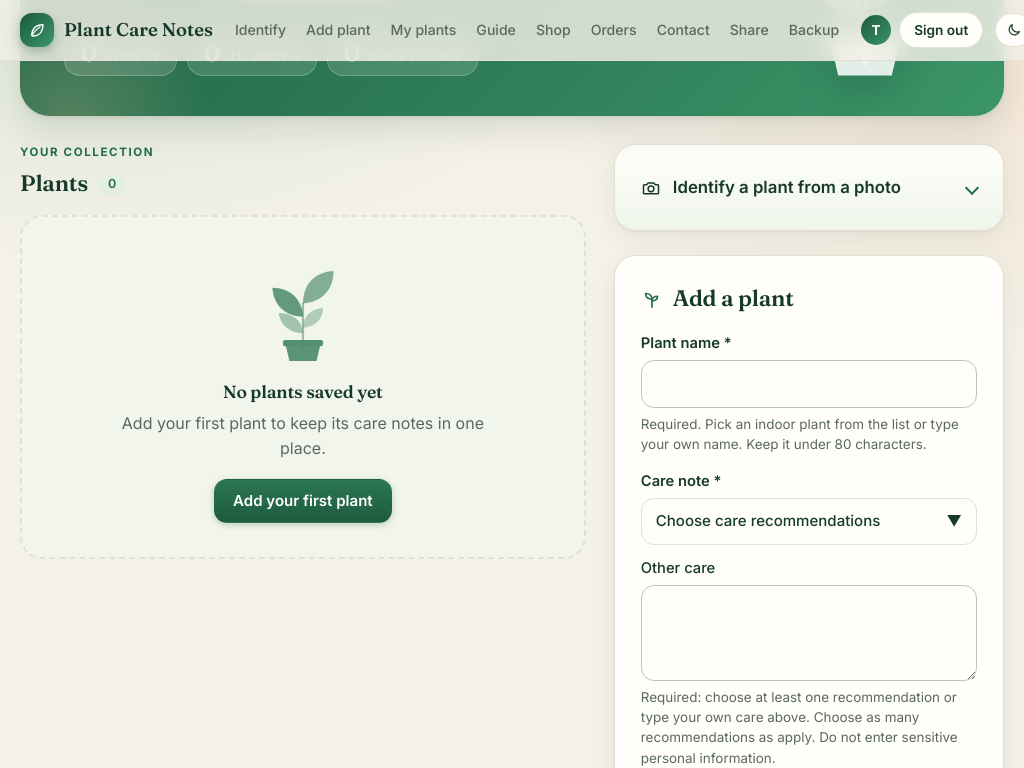
Test: Plant Care Notes › saves a plant and shows name and care note (criterion 1)
(page scrolled)
Type "Fern" into the field labelled "Plant name *".
click(809, 384); type("Fern")  # box [641,360,977,408]
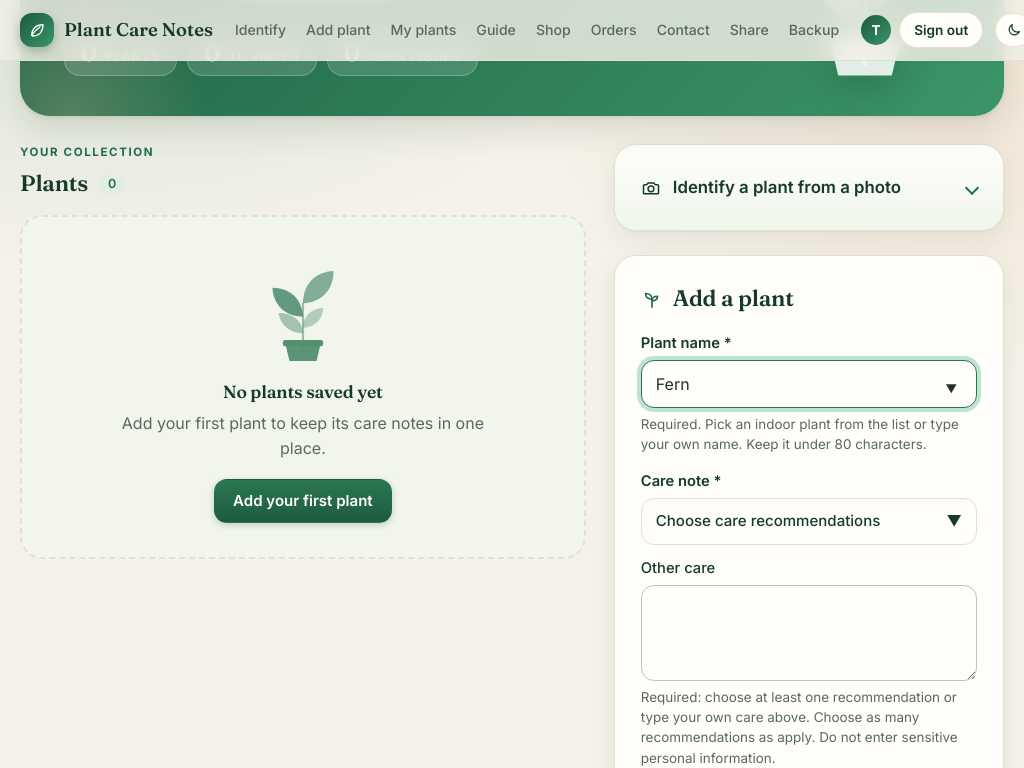
Type "Mist daily" into the text box labelled "Other care".
click(809, 633); type("Mist daily")  # box [641,585,977,681]
(page scrolled)
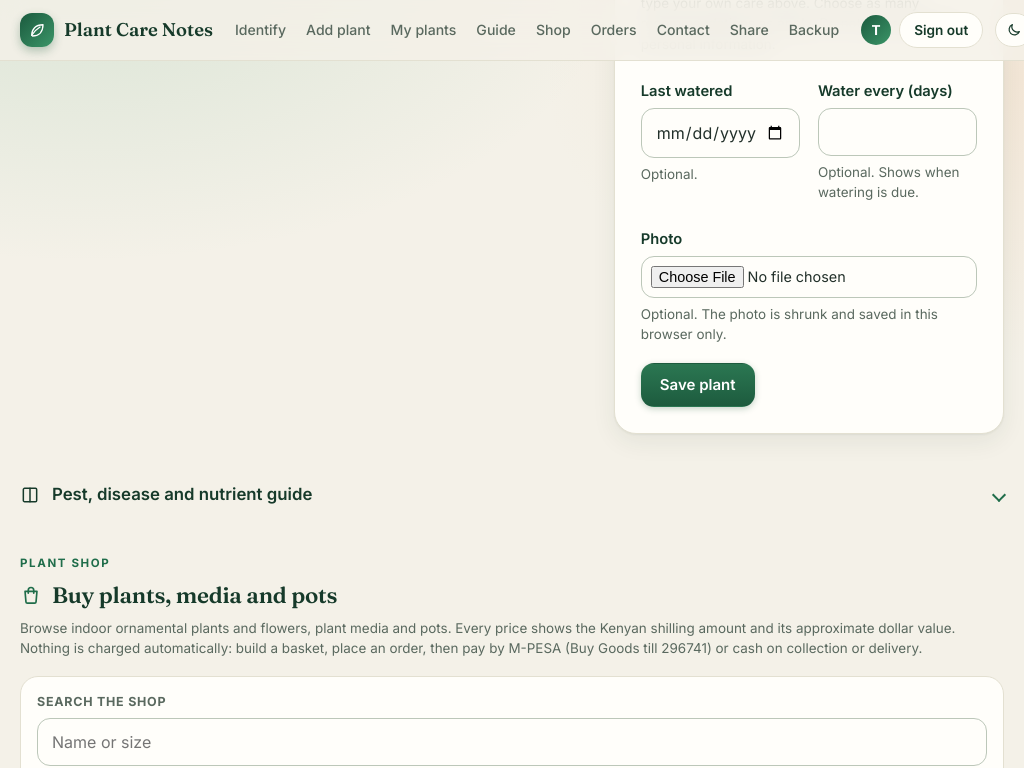
Click the button "Save plant".
click(698, 385)  # box [641,362,755,407]
(page scrolled)
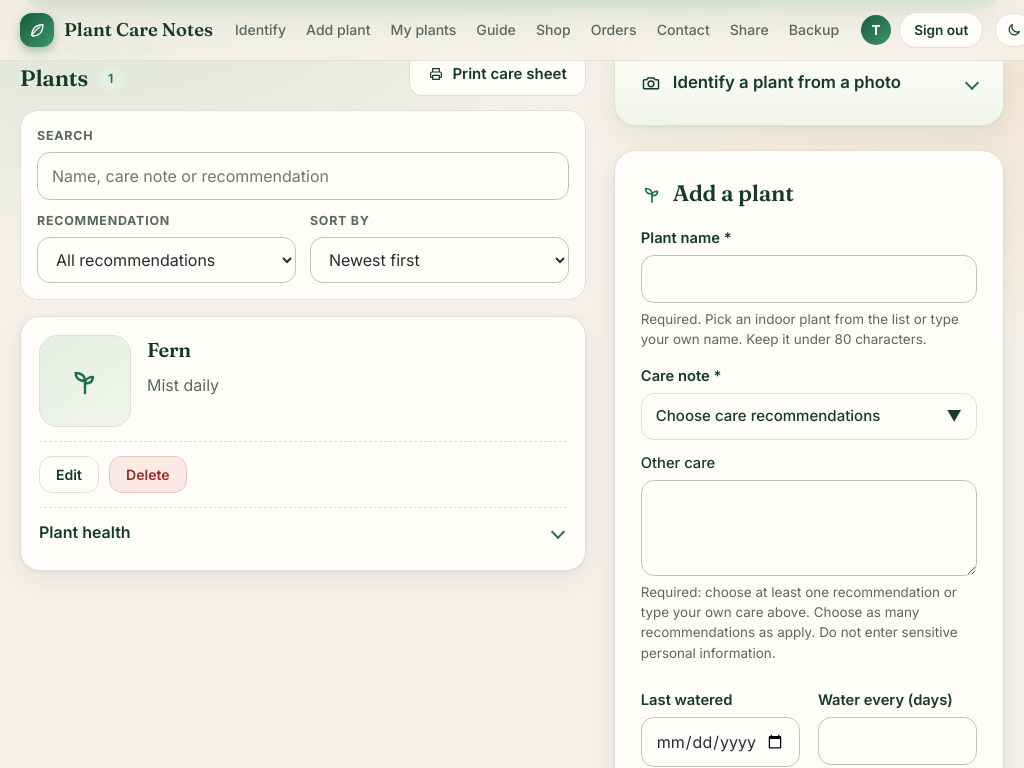
Expected: the heading "Fern" is shown, [147,336,191,362]
Expected: the text "Mist daily" is shown, [147,374,219,394]
